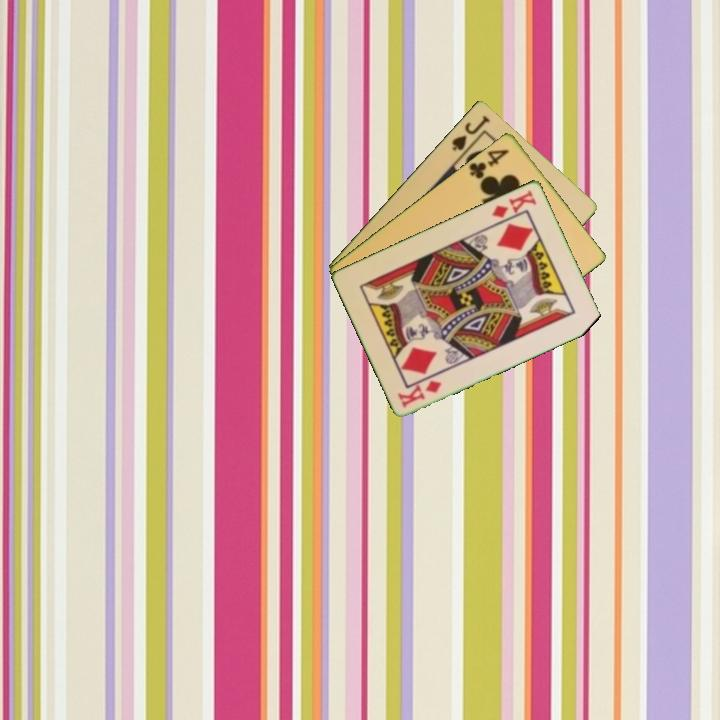4c: (465, 145, 512, 184)
Js: (448, 111, 493, 154)
Kd: (489, 186, 540, 221), (395, 376, 445, 410)
